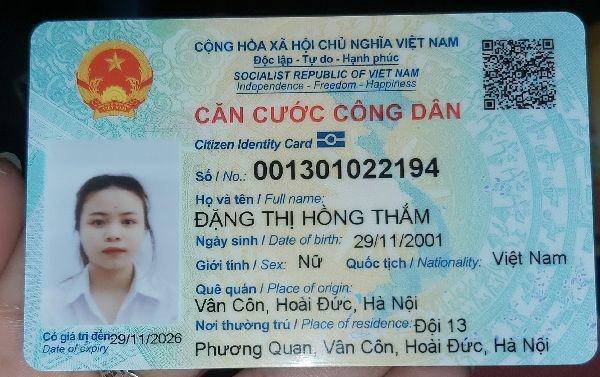ID: (248, 151, 446, 183)
birth: (352, 230, 443, 255)
name: (189, 202, 441, 231)
place: (190, 295, 430, 316)
residence: (187, 337, 550, 358), (413, 317, 470, 338)
